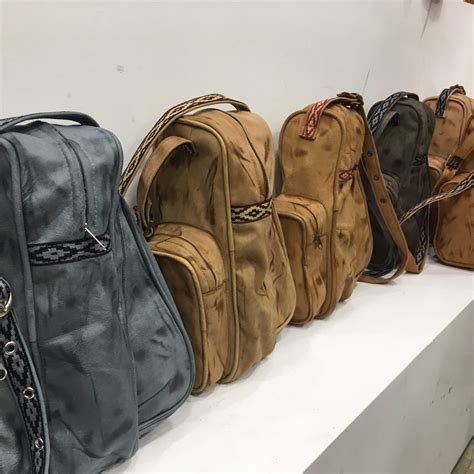cuero: (4, 89, 474, 474)
